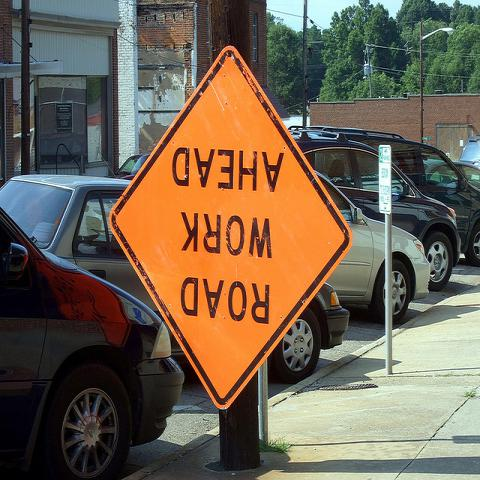car: (0, 173, 351, 385), (0, 206, 185, 479), (289, 130, 463, 290), (286, 124, 480, 265), (316, 170, 432, 323), (453, 135, 480, 190)
